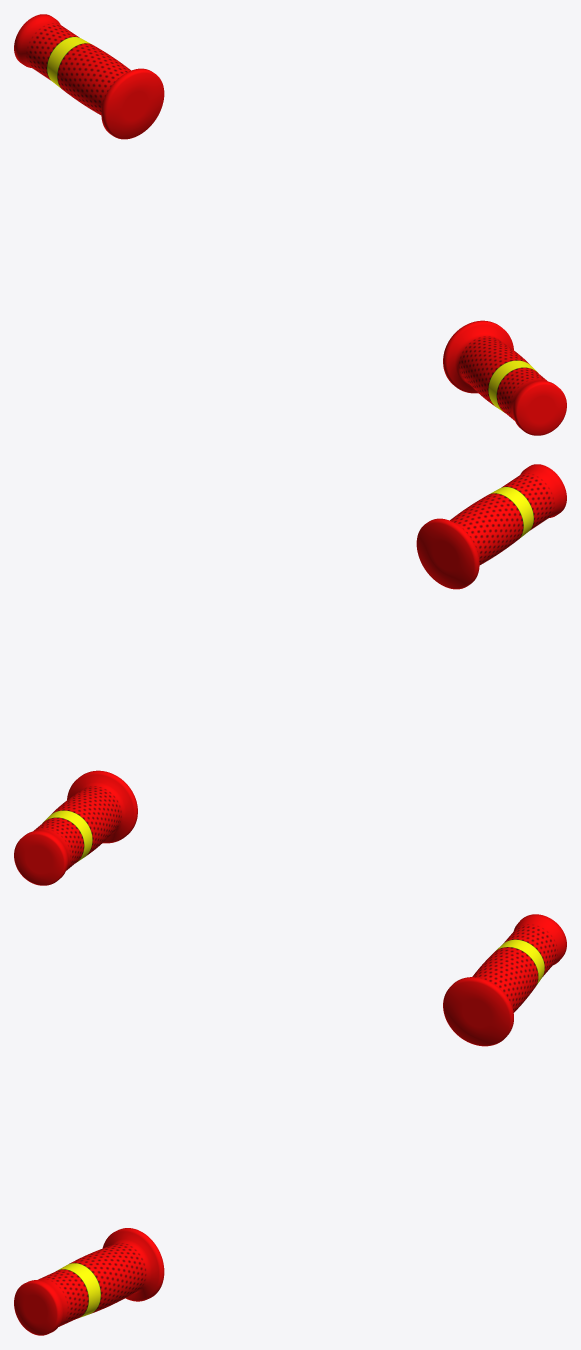
Rendered from touring.glb.
The picture shows the model from 3 angles, top to bottom: view 1: azimuth 30°, elevation 25°; view 2: azimuth 150°, elevation 25°; view 3: azimuth 330°, elevation 25°; orthographic projection.
Visible parts, largest first — view 1: grip_touring; view 2: grip_touring; view 3: grip_touring.
Boxes of the visible parts, x1=… form: grip_touring: x1=14, y1=14, x2=566, y2=435; grip_touring: x1=14, y1=464, x2=566, y2=885; grip_touring: x1=14, y1=914, x2=566, y2=1335.
Size of the model in its own units: 0.0643 by 0.0581 by 0.7724.
Materials: 1 (1 with a texture image).
